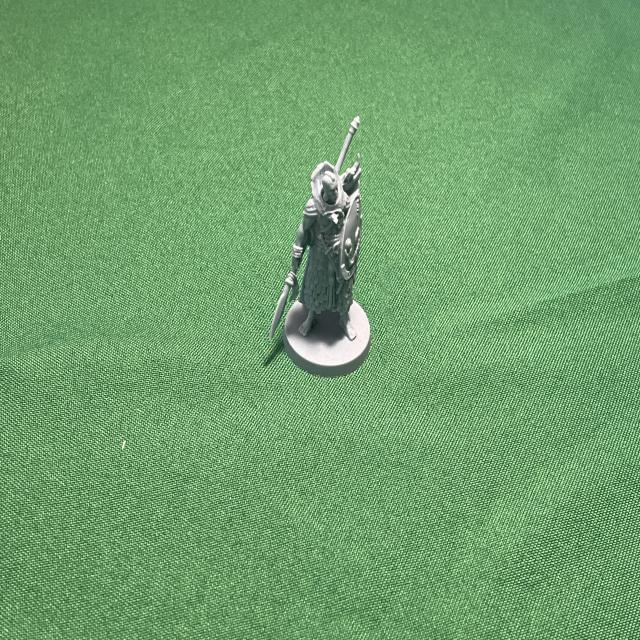isis_follower: (265, 115, 379, 380)
